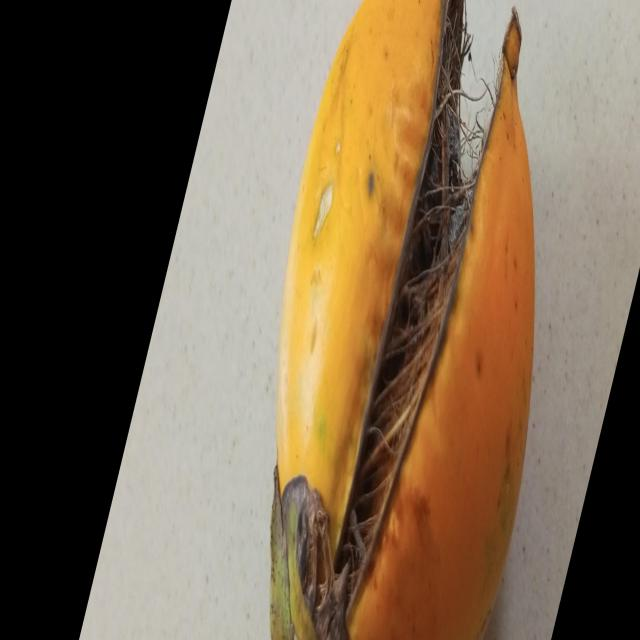damaged: (271, 0, 537, 640)
